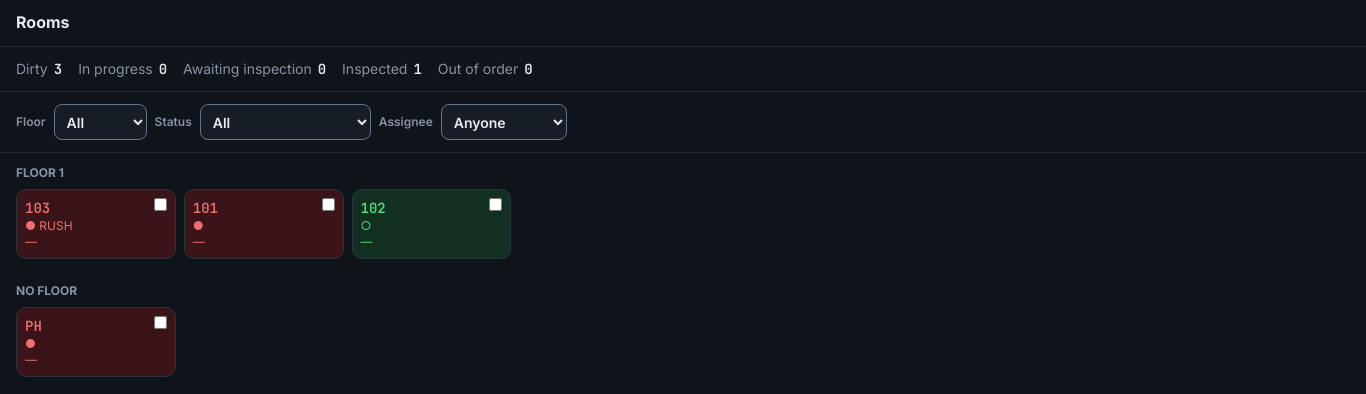
it: RoomBoardPage › filters to unassigned rooms of one status
The width and height of the screenshot is (1366, 394).
Expected: the heading "Floor 1" is shown, 16,165 -> 64,180
Select "Inspected" in the dropdown labelled "Status" at (285, 122), box 200,104 -> 371,140
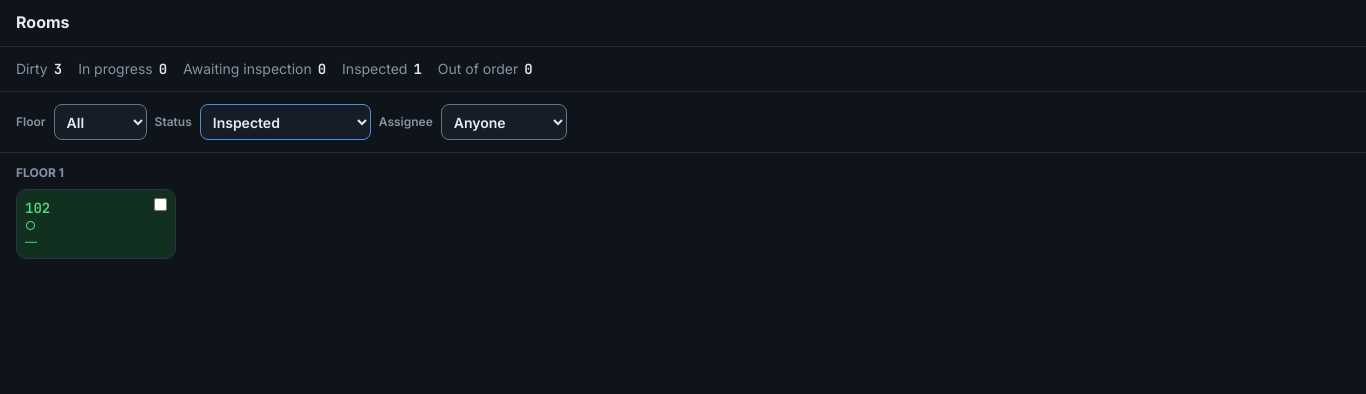
Expected: the text "102" is shown, 25,198 -> 50,218
Result: the number of buttons named "Room " is 1 at 25,198 -> 167,250
